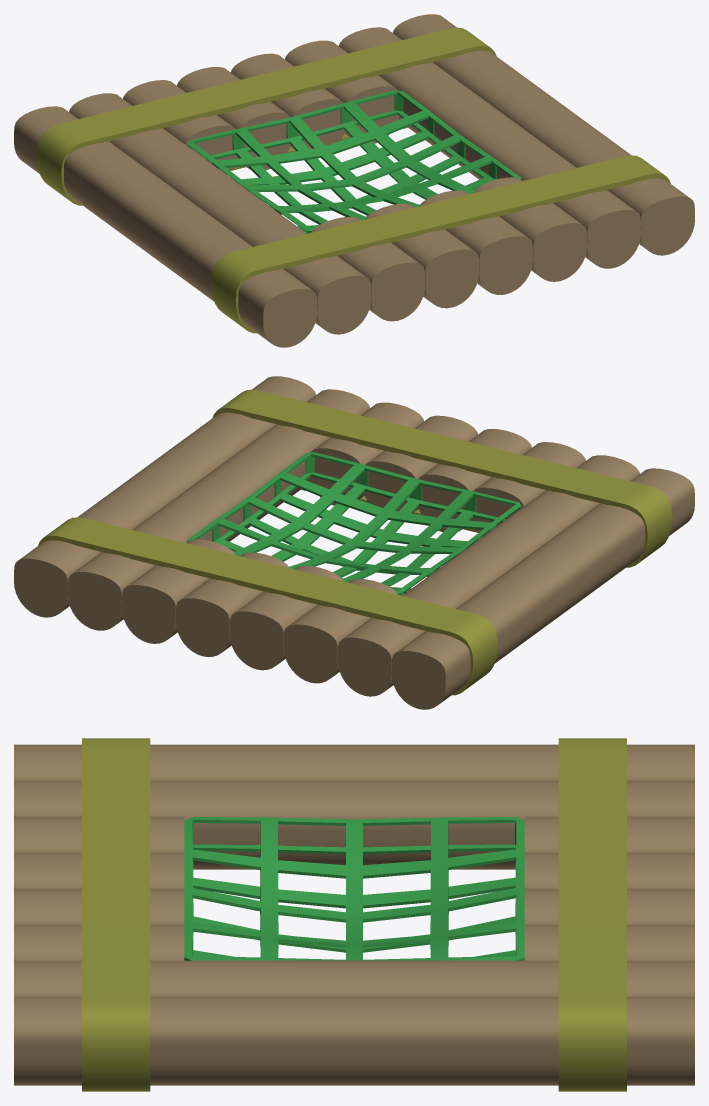
The model's file is FishingRaft.fbx.
3 renders of one model, top to bottom at view 1: azimuth 30°, elevation 25°; view 2: azimuth 150°, elevation 25°; view 3: azimuth 270°, elevation 25°, orthographic. The views are drawn at different scales.
Parts seen in each view (by area): view 1: FishingTile, RaftBands.001, Net; view 2: FishingTile, RaftBands.001, Net; view 3: FishingTile, RaftBands.001, Net.
Boxes of the visible parts, <box> form: FishingTile: <box>14,14,694,347</box>; RaftBands.001: <box>36,27,670,333</box>; Net: <box>187,90,521,233</box>; FishingTile: <box>14,376,694,709</box>; RaftBands.001: <box>38,389,672,695</box>; Net: <box>187,452,521,595</box>; FishingTile: <box>14,744,694,1085</box>; RaftBands.001: <box>82,738,626,1091</box>; Net: <box>184,817,524,960</box>.
Size of the model in its own units: 101 by 14.33 by 100.
